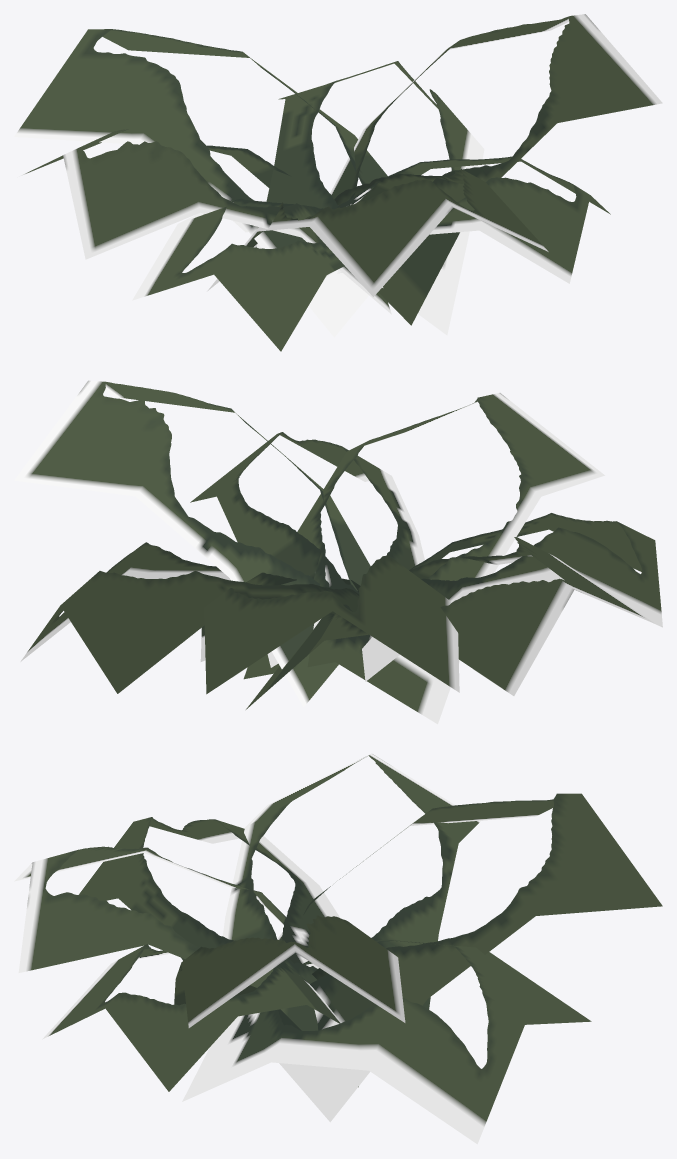
The model's file is bush-02.fbx.
The picture shows the model from 3 angles, top to bottom: view 1: azimuth 30°, elevation 25°; view 2: azimuth 150°, elevation 25°; view 3: azimuth 270°, elevation 25°; orthographic projection. The views are drawn at different scales.
Parts seen in each view (by area): view 1: bush_02; view 2: bush_02; view 3: bush_02.
Boxes of the visible parts, left/top/right/bottom form: bush_02: left=14, top=14, right=662, bottom=351; bush_02: left=14, top=380, right=662, bottom=724; bush_02: left=14, top=753, right=662, bottom=1144.
Size of the model in its own units: 213 by 94.78 by 210.
